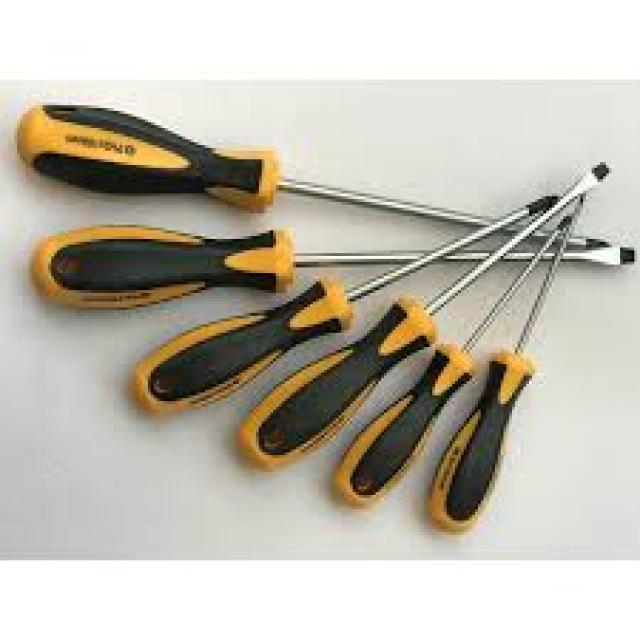screwdriver: (238, 159, 614, 472), (132, 194, 562, 418), (14, 101, 623, 255), (330, 213, 572, 509), (428, 190, 588, 538), (25, 223, 640, 311)
